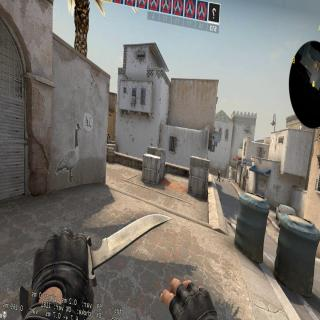CT-Body: (216, 170, 222, 182)
CT-Head: (219, 171, 221, 173)
